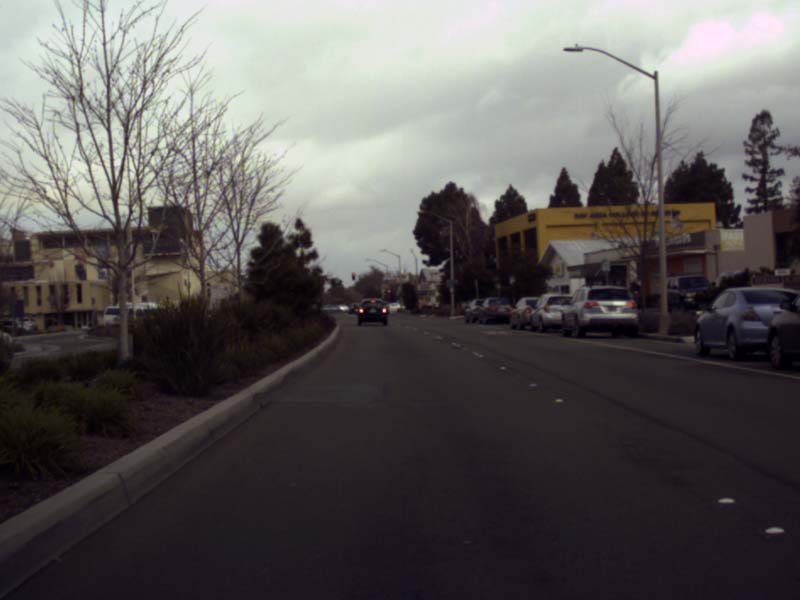Red: (351, 272, 355, 280), (386, 287, 390, 295)
